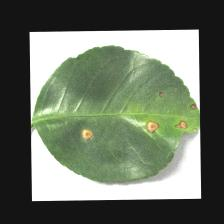canker: (61, 93, 198, 153)
